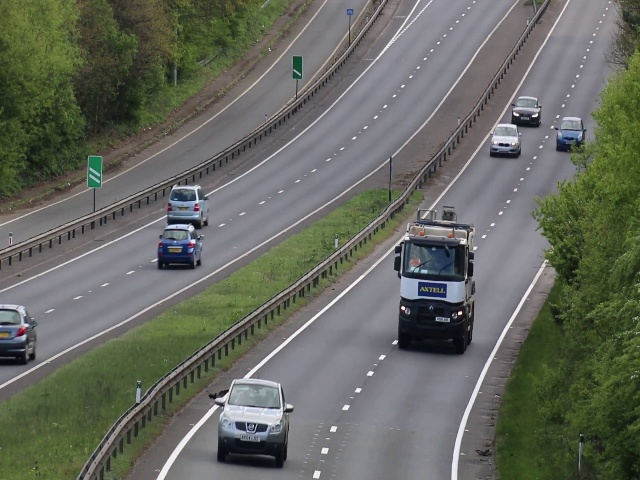car: (395, 222, 474, 354), (216, 374, 290, 467), (1, 303, 42, 363), (154, 223, 205, 271), (166, 183, 211, 228), (555, 115, 585, 153), (490, 123, 521, 158), (511, 93, 541, 128)
